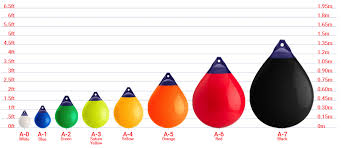buoy: (192, 72, 246, 129), (147, 85, 187, 128)
